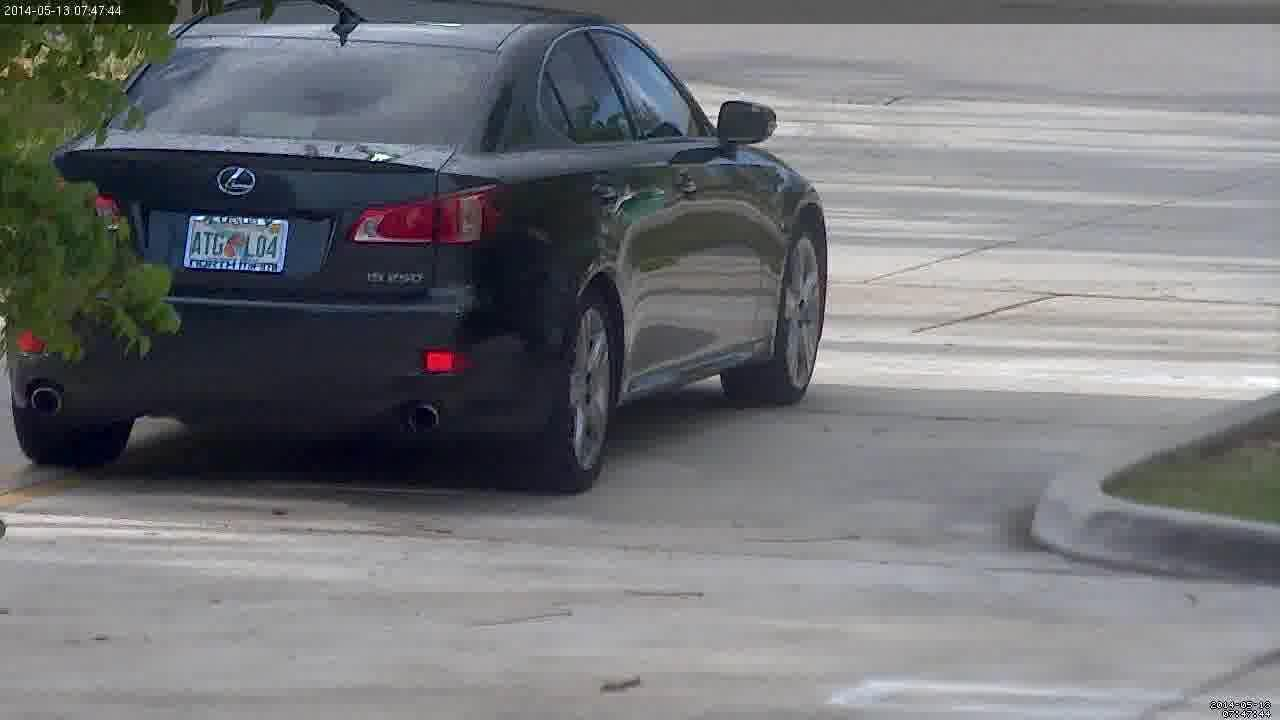placa de veiculo: (171, 201, 313, 290)
